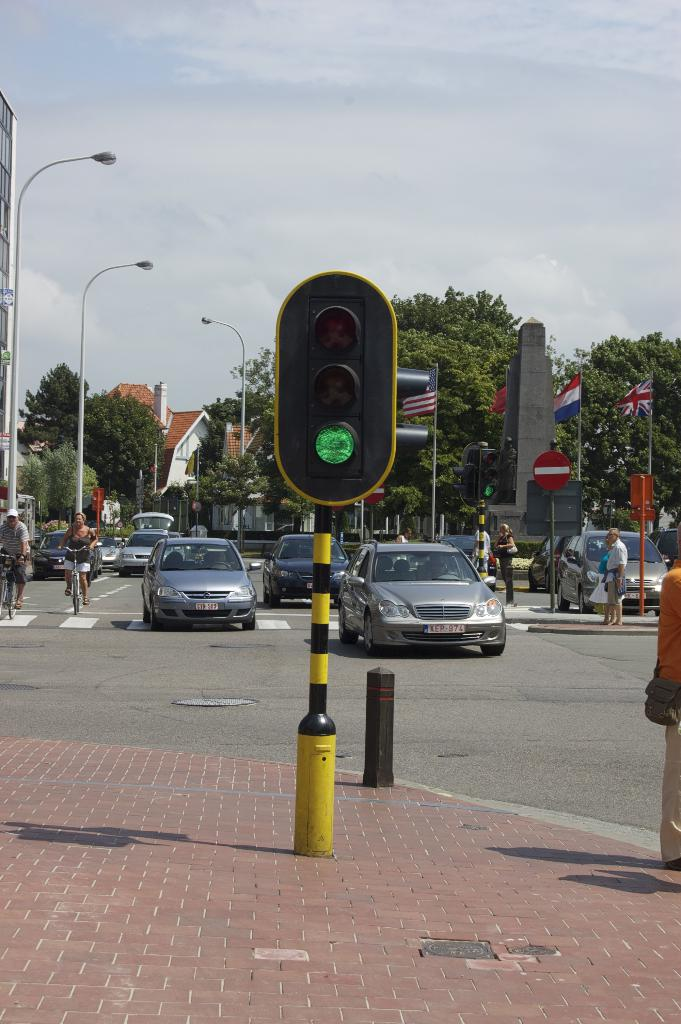green_light: (301, 284, 366, 490)
